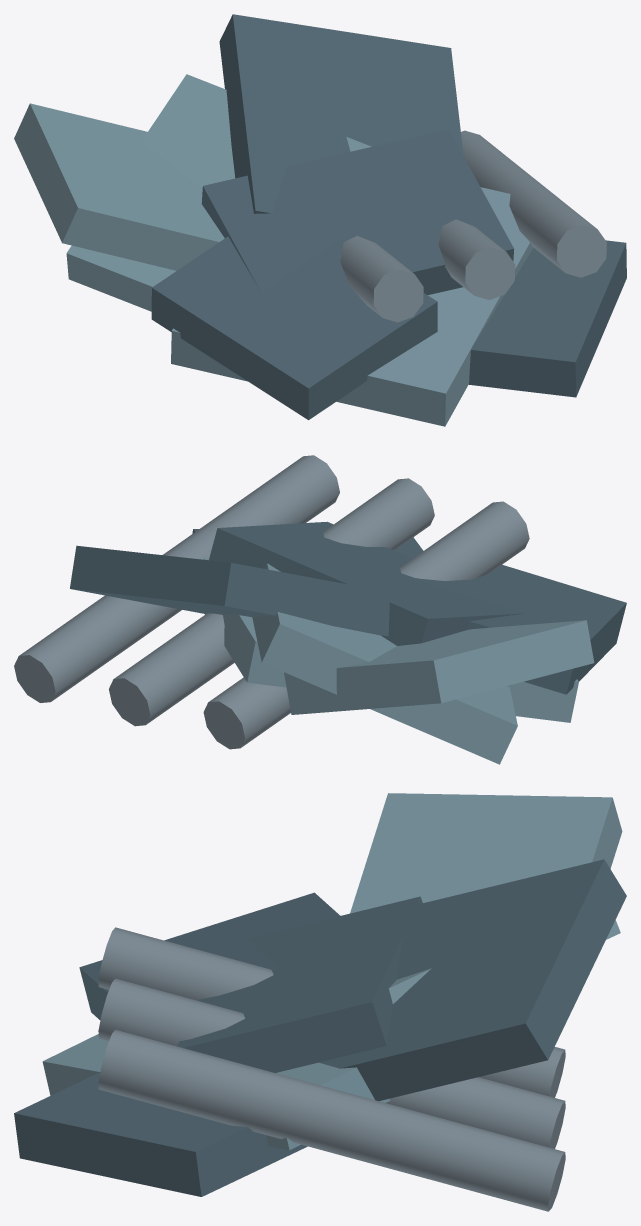
Rendered from cover-scrap-clean.glb.
3 renders of one model, top to bottom at view 1: azimuth 30°, elevation 25°; view 2: azimuth 150°, elevation 25°; view 3: azimuth 270°, elevation 25°, orthographic. The views are drawn at different scales.
Visible parts, largest first — view 1: cover-scrap-kit-clean-dark, cover-scrap-kit-clean-metal, cover-scrap-kit-clean-shade; view 2: cover-scrap-kit-clean-dark, cover-scrap-kit-clean-shade, cover-scrap-kit-clean-metal; view 3: cover-scrap-kit-clean-dark, cover-scrap-kit-clean-shade, cover-scrap-kit-clean-metal.
Boxes of the visible parts, x1,y1,x2,y2 form: cover-scrap-kit-clean-dark: (151, 14, 626, 420); cover-scrap-kit-clean-metal: (14, 74, 533, 426); cover-scrap-kit-clean-shade: (340, 130, 606, 322); cover-scrap-kit-clean-dark: (70, 521, 626, 694); cover-scrap-kit-clean-shade: (14, 455, 529, 749); cover-scrap-kit-clean-metal: (204, 558, 594, 764); cover-scrap-kit-clean-dark: (14, 859, 626, 1196); cover-scrap-kit-clean-shade: (98, 927, 565, 1211); cover-scrap-kit-clean-metal: (42, 793, 622, 1150).
Size of the model in its own units: 1.89 by 0.8375 by 1.77.
